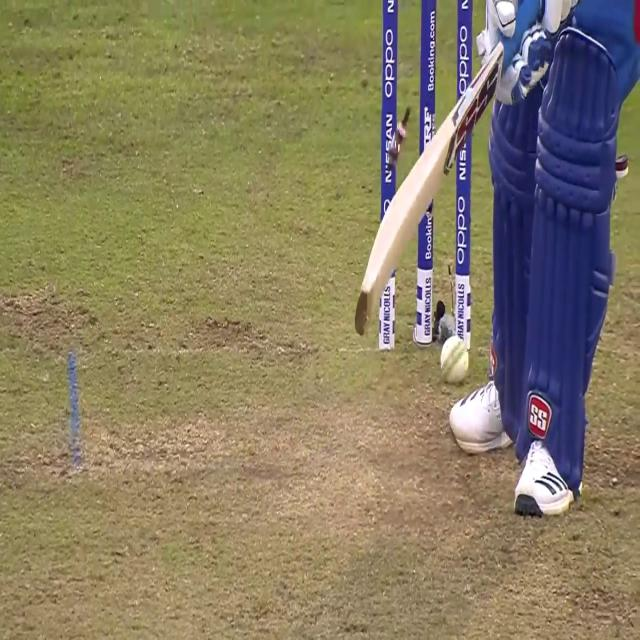ball: (440, 335, 471, 382)
